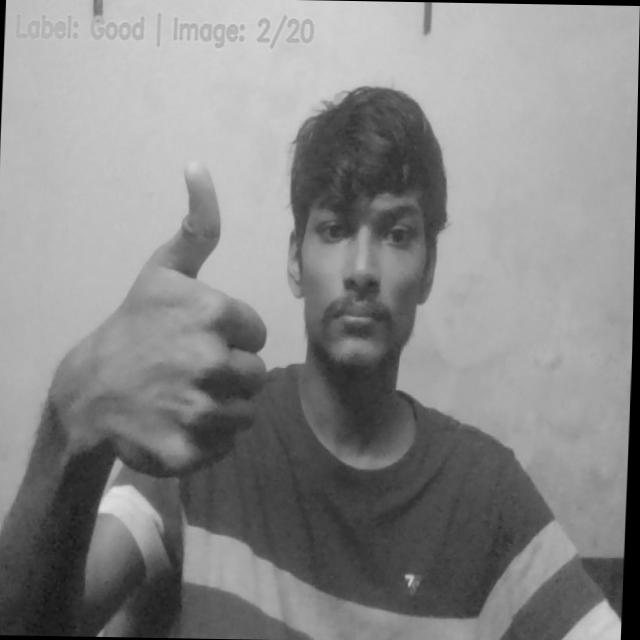Good: (82, 152, 276, 480)
